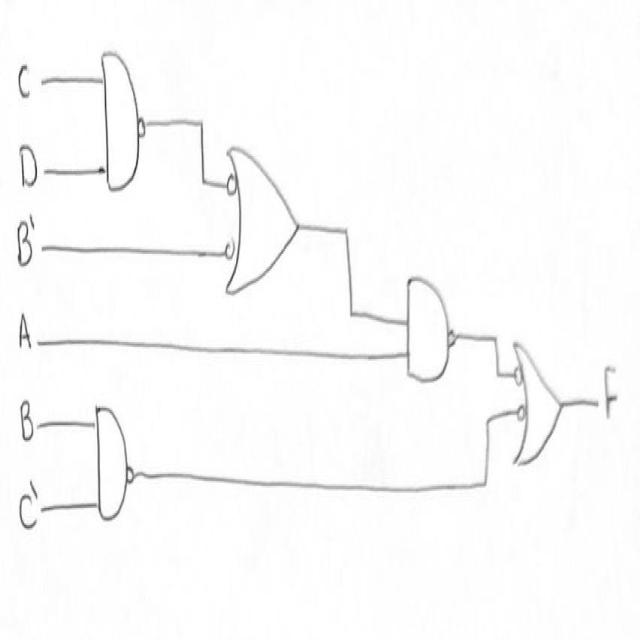NAND: (399, 251, 462, 403), (96, 41, 152, 206), (88, 382, 144, 547)
OR: (218, 106, 308, 304), (506, 328, 568, 478)
